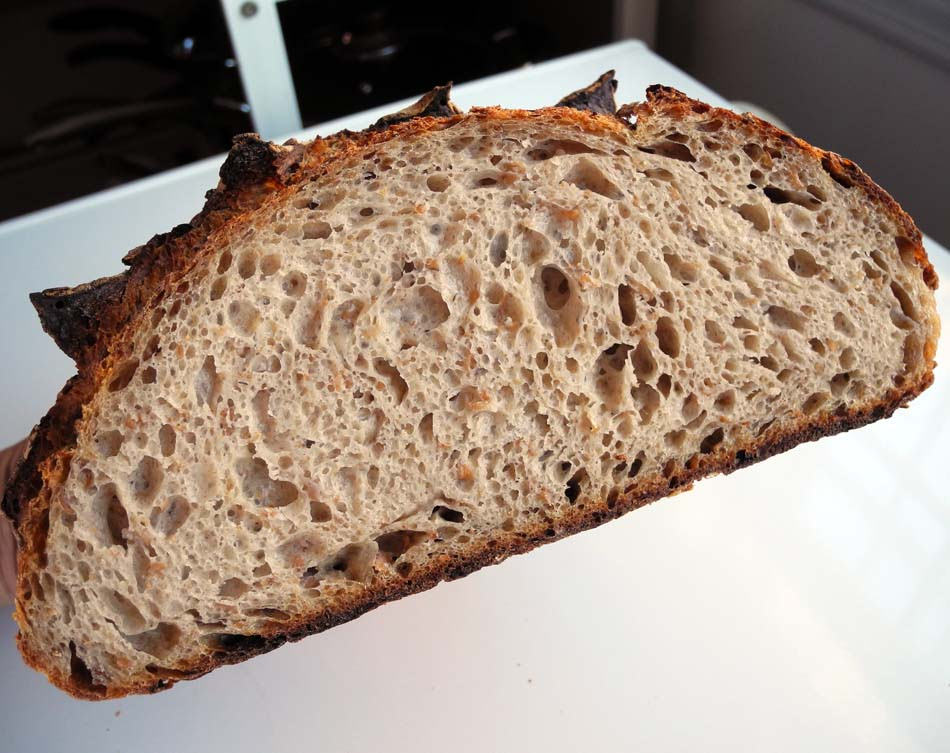slice of bread: (18, 102, 911, 706)
